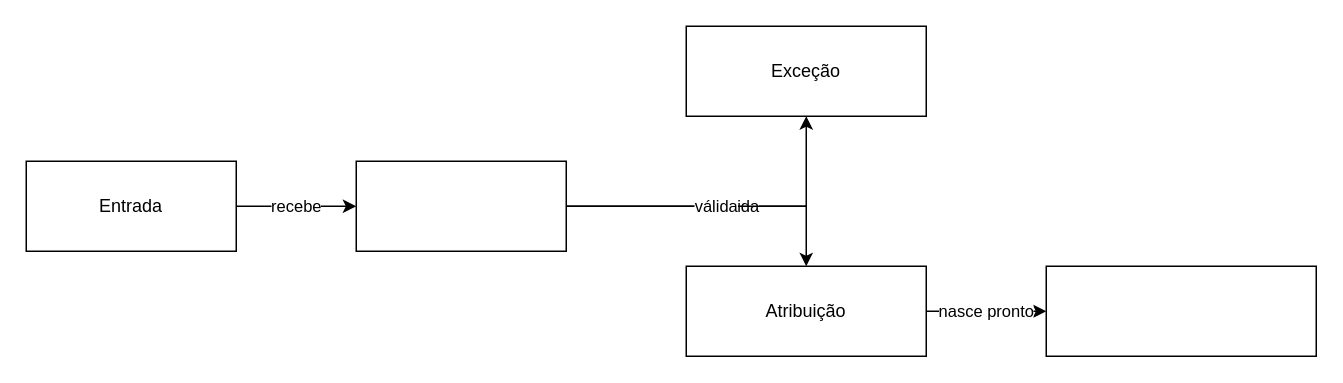
Image size: 1343x383. Some labels were removed from this diagram. Each missing label, with the box of its shape:
Objeto válido: (1045, 265, 1316, 356)
Validação: (355, 160, 566, 251)
